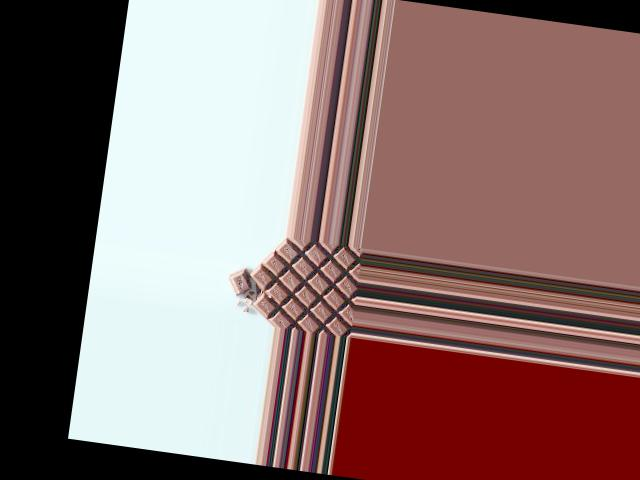chocolate: (235, 235, 363, 336)
